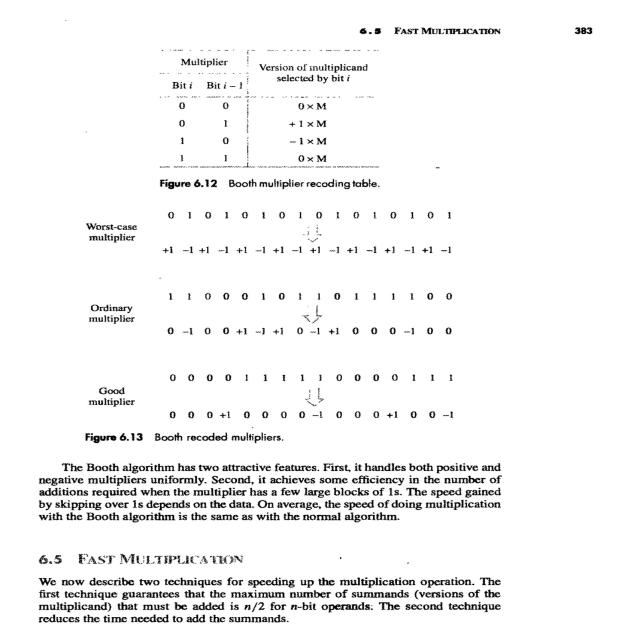diagram: (54, 26, 517, 450)
